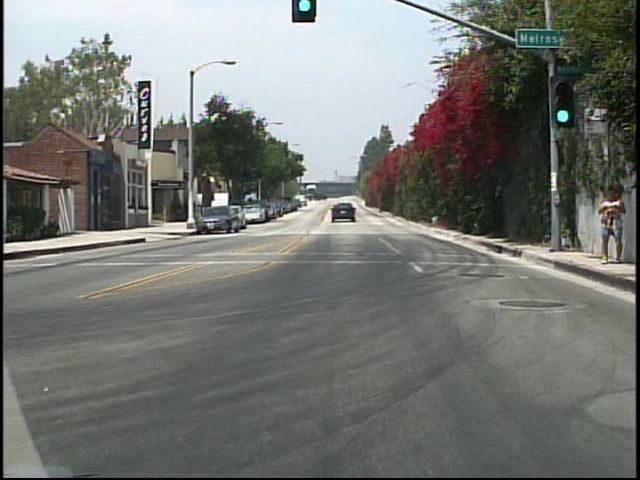person: (596, 186, 630, 266)
